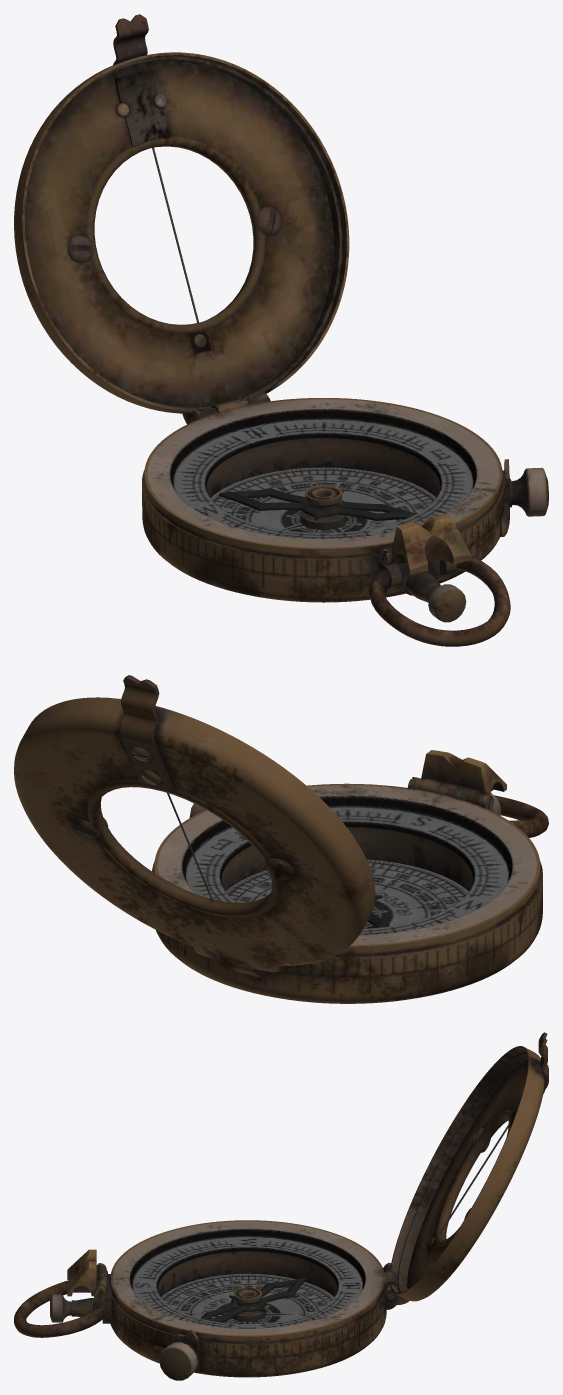
Rendered from seadogs_compass.glb.
3 views of the same model, one above another, from view 1: azimuth 30°, elevation 25°; view 2: azimuth 150°, elevation 25°; view 3: azimuth 270°, elevation 25° (orthographic). The views are drawn at different scales.
Visible parts, largest first — view 1: seadogs_compass_lid, seadogs_compass, seadogs_compass_needle; view 2: seadogs_compass_lid, seadogs_compass; view 3: seadogs_compass, seadogs_compass_lid, seadogs_compass_needle.
Boxes of the visible parts, <box> form: seadogs_compass_lid: <box>14,14,349,424</box>; seadogs_compass: <box>142,398,548,646</box>; seadogs_compass_needle: <box>219,488,415,520</box>; seadogs_compass_lid: <box>14,675,375,972</box>; seadogs_compass: <box>152,750,548,1003</box>; seadogs_compass: <box>14,1220,397,1380</box>; seadogs_compass_lid: <box>382,1032,548,1305</box>; seadogs_compass_needle: <box>201,1278,306,1322</box>.
Size of the model in its own units: 0.0813 by 0.0866 by 0.1441.
Materials: 1 (1 with a texture image).
